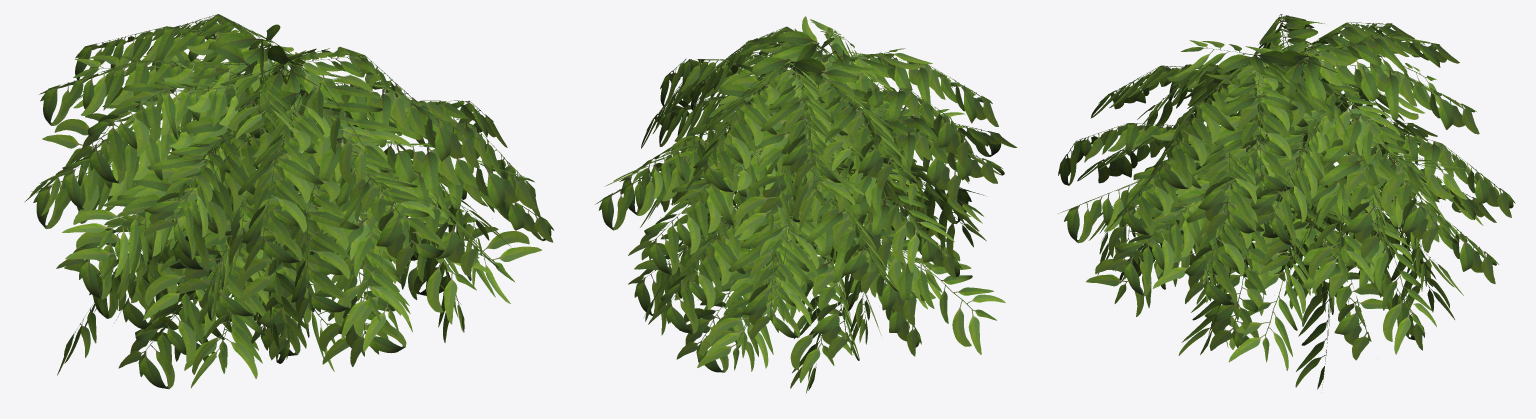
Rendered from BigBush01.dae.
3 renders of one model, left to right at view 1: azimuth 30°, elevation 25°; view 2: azimuth 150°, elevation 25°; view 3: azimuth 270°, elevation 25°, orthographic. The views are drawn at different scales.
Parts seen in each view (by area): view 1: polySurface352; view 2: polySurface352; view 3: polySurface352.
Part boxes in pixels (x1,y1,x2,y2): polySurface352: (24, 14, 554, 389); polySurface352: (595, 16, 1017, 393); polySurface352: (1058, 14, 1515, 389).
Bounding box in the file's own units: 4.82 × 3.58 × 4.78.
Materials: 1 (1 with a texture image).
